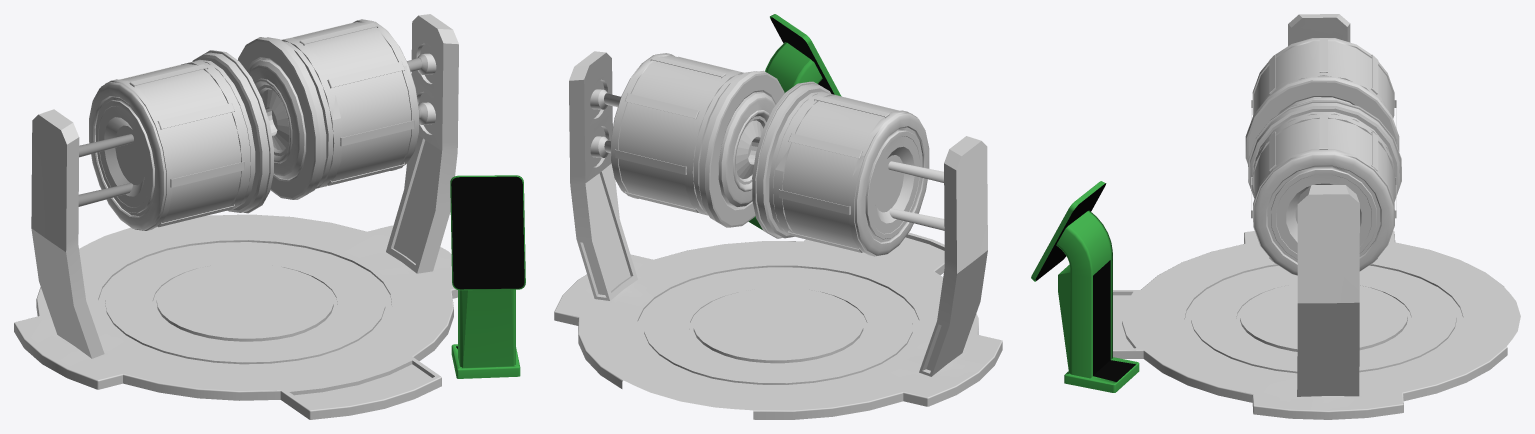
The model's file is updatemachine 1.fbx.
3 renders of one model, left to right at view 1: azimuth 30°, elevation 25°; view 2: azimuth 150°, elevation 25°; view 3: azimuth 270°, elevation 25°, orthographic. The views are drawn at different scales.
Visible parts, largest first — view 1: polySurface1, group2_polySurface106_polySurface106front10, group2_polySurface106_polySurface106front9, polySurface2, polySurface3; view 2: polySurface1, group2_polySurface106_polySurface106front10, group2_polySurface106_polySurface106front9, polySurface3, polySurface2; view 3: polySurface1, group2_polySurface106_polySurface106front9, group2_polySurface106_polySurface106front10, polySurface3, polySurface2.
Boxes of the visible parts, bbox=[...] form: polySurface1: bbox=[14, 14, 458, 419]; group2_polySurface106_polySurface106front10: bbox=[89, 50, 273, 230]; group2_polySurface106_polySurface106front9: bbox=[238, 19, 419, 199]; polySurface2: bbox=[450, 175, 525, 290]; polySurface3: bbox=[451, 289, 520, 378]; polySurface1: bbox=[554, 51, 1002, 419]; group2_polySurface106_polySurface106front10: bbox=[752, 81, 929, 256]; group2_polySurface106_polySurface106front9: bbox=[611, 53, 784, 227]; polySurface3: bbox=[748, 42, 822, 229]; polySurface2: bbox=[770, 14, 841, 96]; polySurface1: bbox=[1113, 14, 1520, 419]; group2_polySurface106_polySurface106front9: bbox=[1248, 100, 1401, 275]; group2_polySurface106_polySurface106front10: bbox=[1245, 38, 1399, 163]; polySurface3: bbox=[1056, 210, 1139, 392]; polySurface2: bbox=[1031, 181, 1106, 281].
Bounding box in the file's own units: 340 × 205 × 377.
